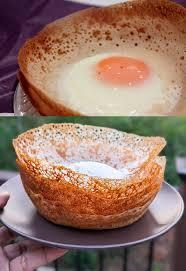Hoppers: (13, 120, 177, 235)
